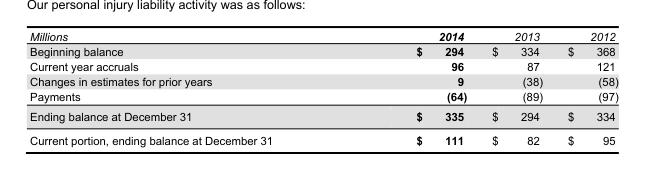table: (29, 29, 617, 146)
table column: (29, 29, 343, 146), (343, 29, 478, 146), (478, 29, 554, 146), (554, 29, 617, 146)
table column header: (29, 29, 617, 43)
table row: (29, 106, 617, 127), (29, 127, 617, 146), (29, 88, 617, 106), (29, 43, 617, 58), (29, 58, 617, 73), (29, 73, 617, 88), (29, 29, 617, 43)
